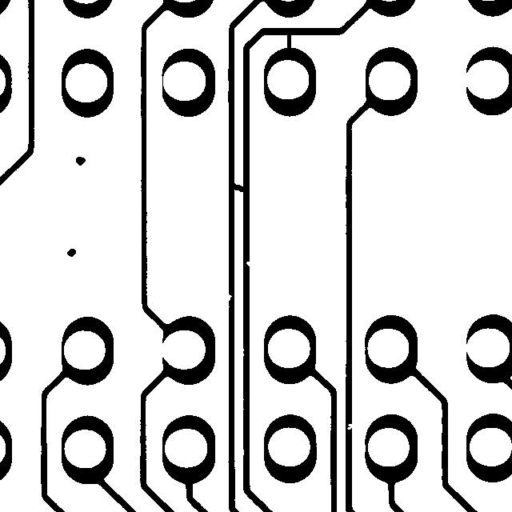copper: (68, 149, 93, 173), (59, 241, 83, 264)
mousebite: (339, 416, 362, 437), (238, 254, 262, 274), (218, 286, 239, 308)
short: (222, 175, 254, 199), (279, 25, 298, 57)
